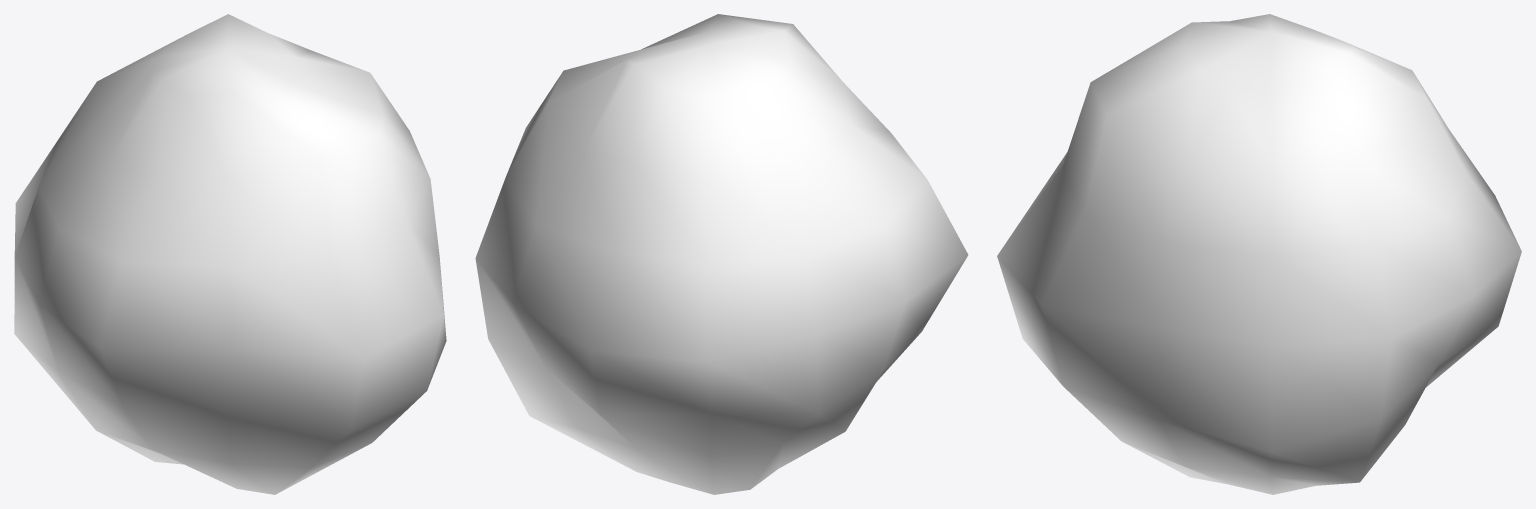
The model's file is ASFTR_CookedRice.fbx.
The picture shows the model from 3 angles, left to right: view 1: azimuth 30°, elevation 25°; view 2: azimuth 150°, elevation 25°; view 3: azimuth 270°, elevation 25°; orthographic projection. The views are drawn at different scales.
Parts seen in each view (by area): view 1: ASFTR_RiceRaw; view 2: ASFTR_RiceRaw; view 3: ASFTR_RiceRaw.
Part boxes in pixels (<box>): ASFTR_RiceRaw: <box>14,14,446,494</box>; ASFTR_RiceRaw: <box>475,14,968,494</box>; ASFTR_RiceRaw: <box>997,14,1521,494</box>.
Bounding box in the file's own units: 45.26 × 44.79 × 49.47.
